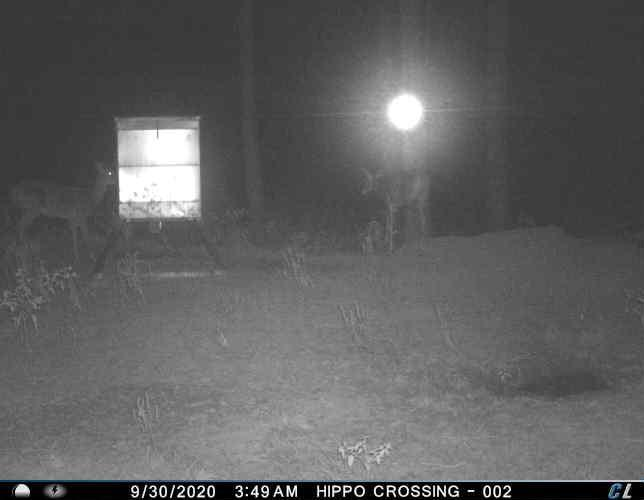Deer: (12, 159, 116, 266), (358, 157, 434, 255)
